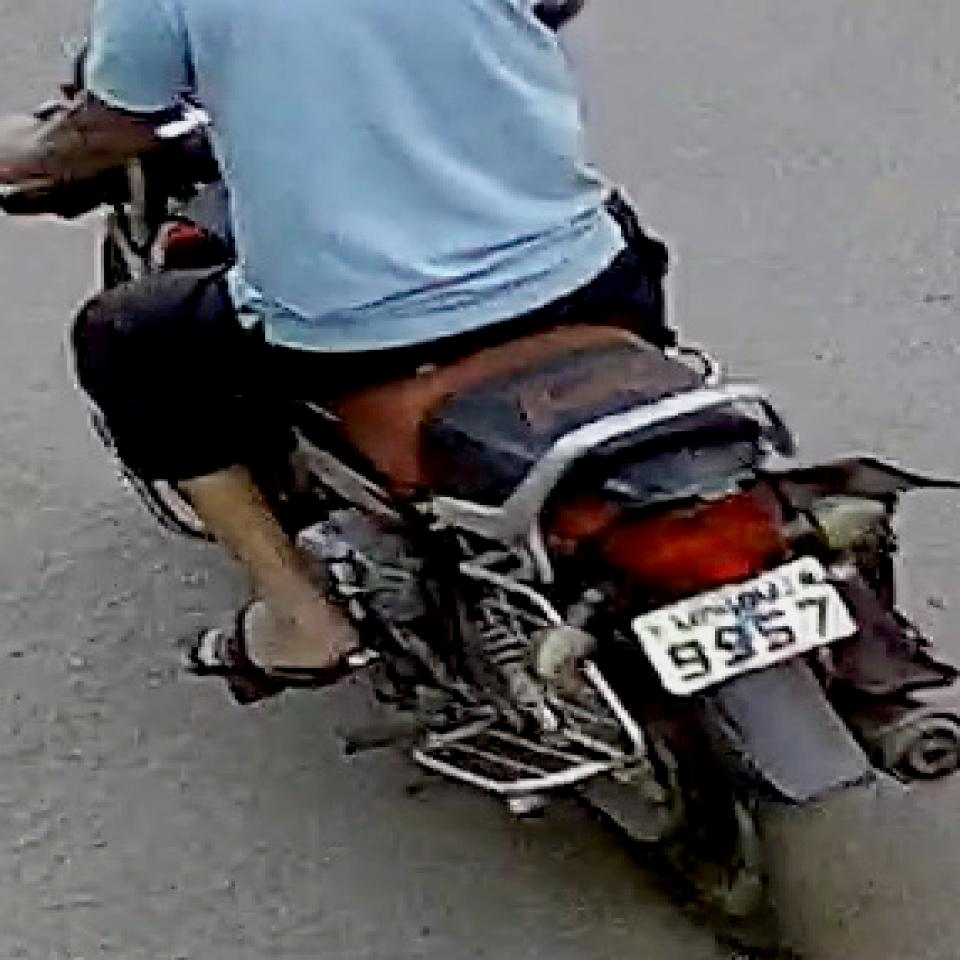tail_light: (602, 485, 792, 588)
